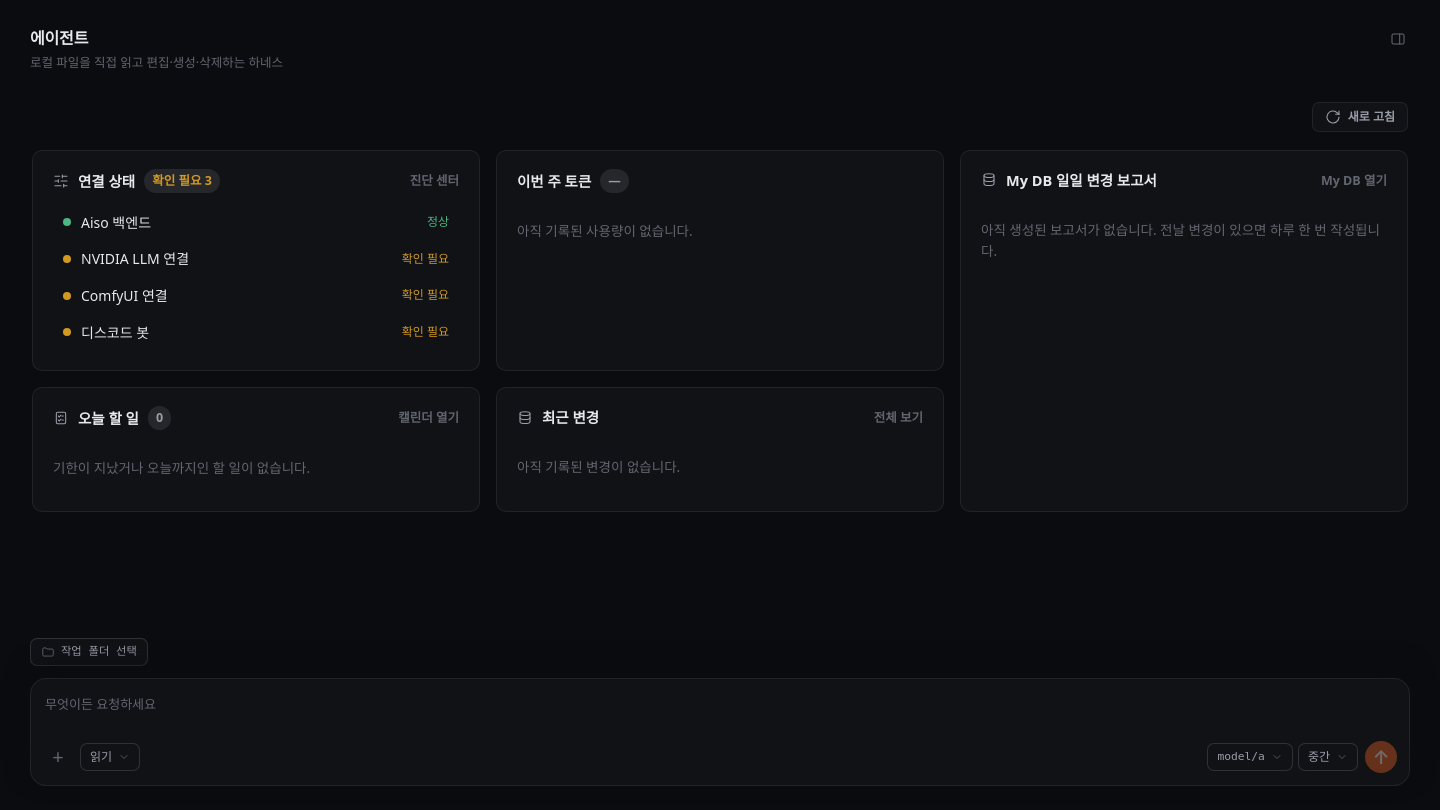
Test: AgentView NVIDIA capability gate › does not let a late approval acknowledgement overwrite an earlier tool result
Type "승인 경쟁 테스트" into the text box at (720, 712), box [43,691,1397,733]
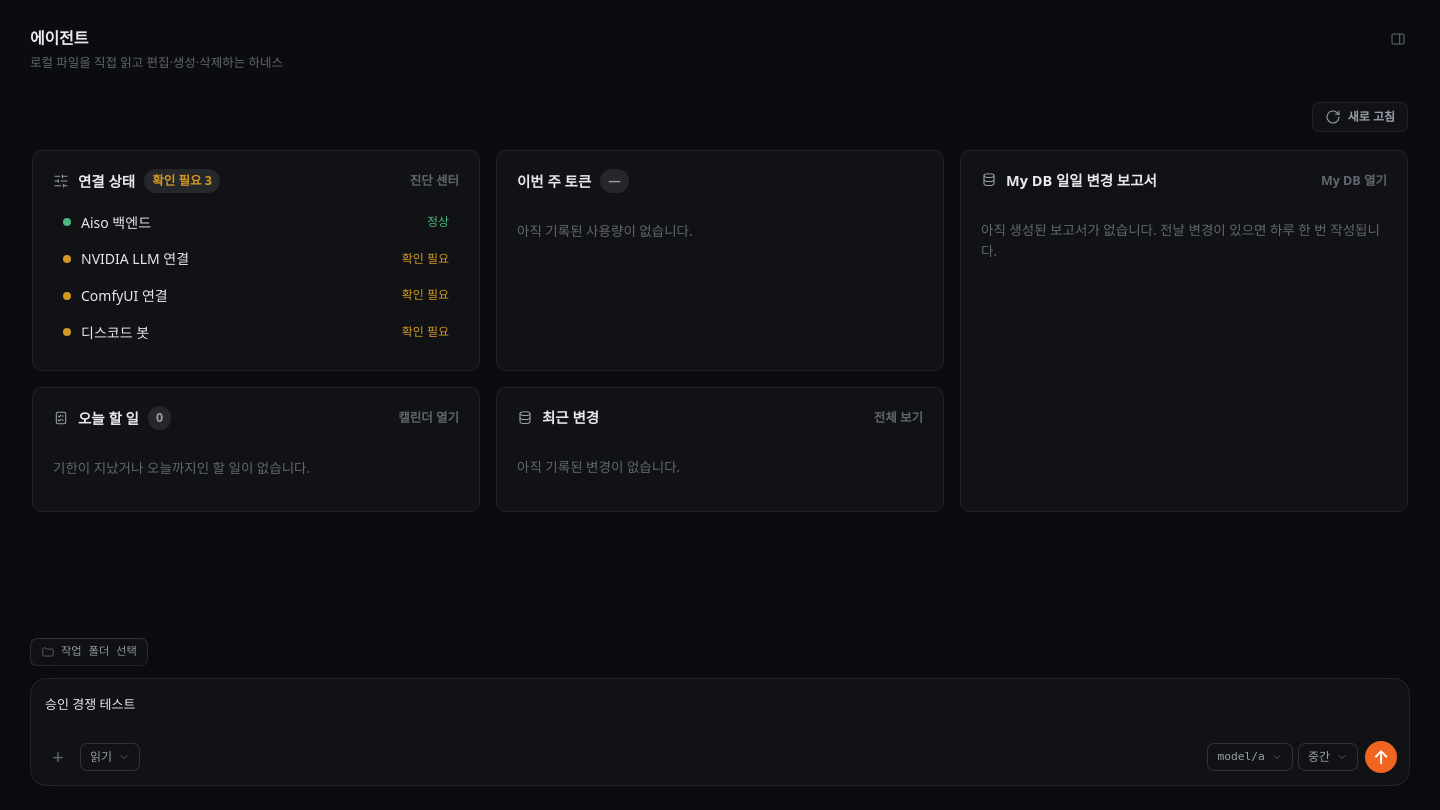
Click the button named "실행" at (1381, 757), box [1365,741,1397,773]
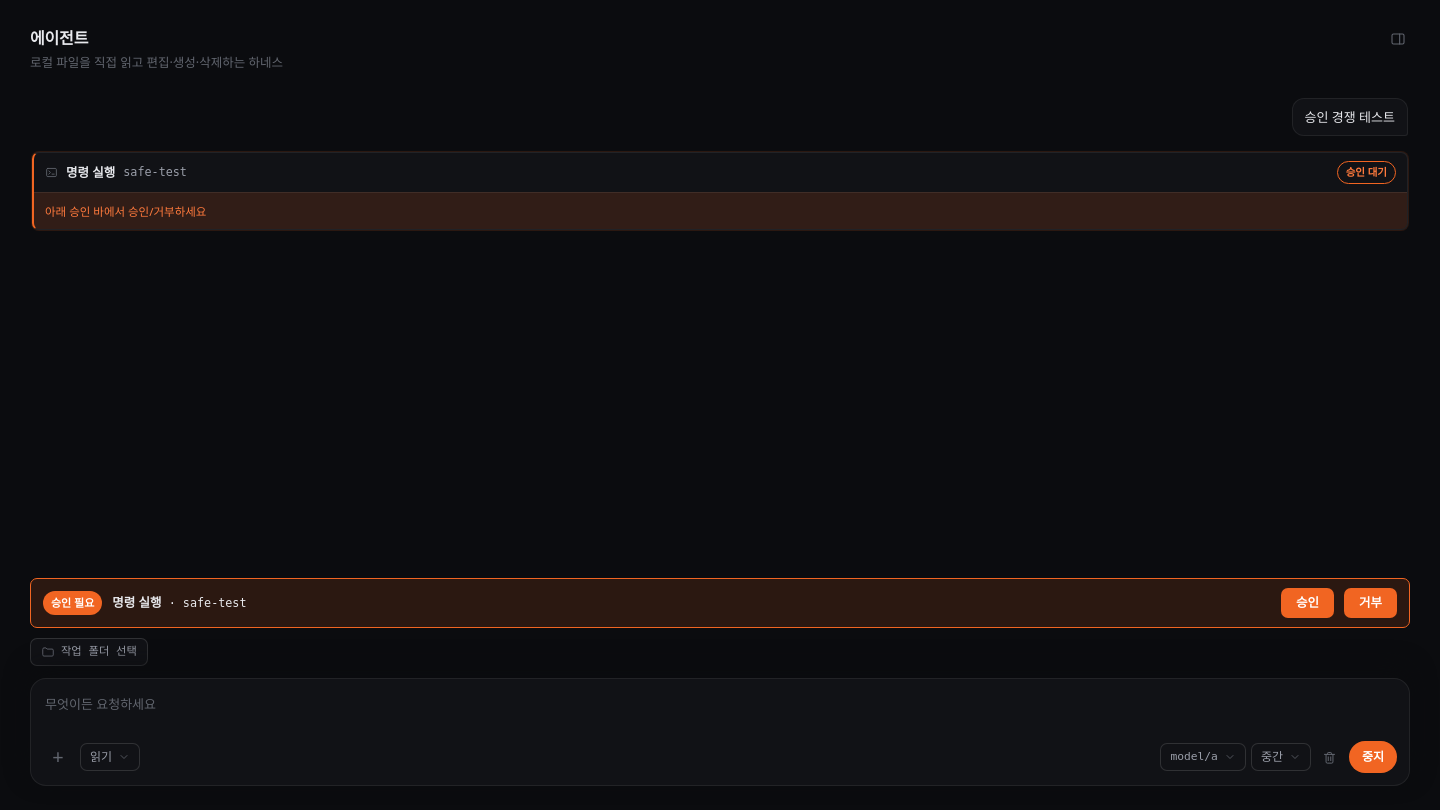
Click the button "승인" at (1308, 603), box [1281,588,1334,618]
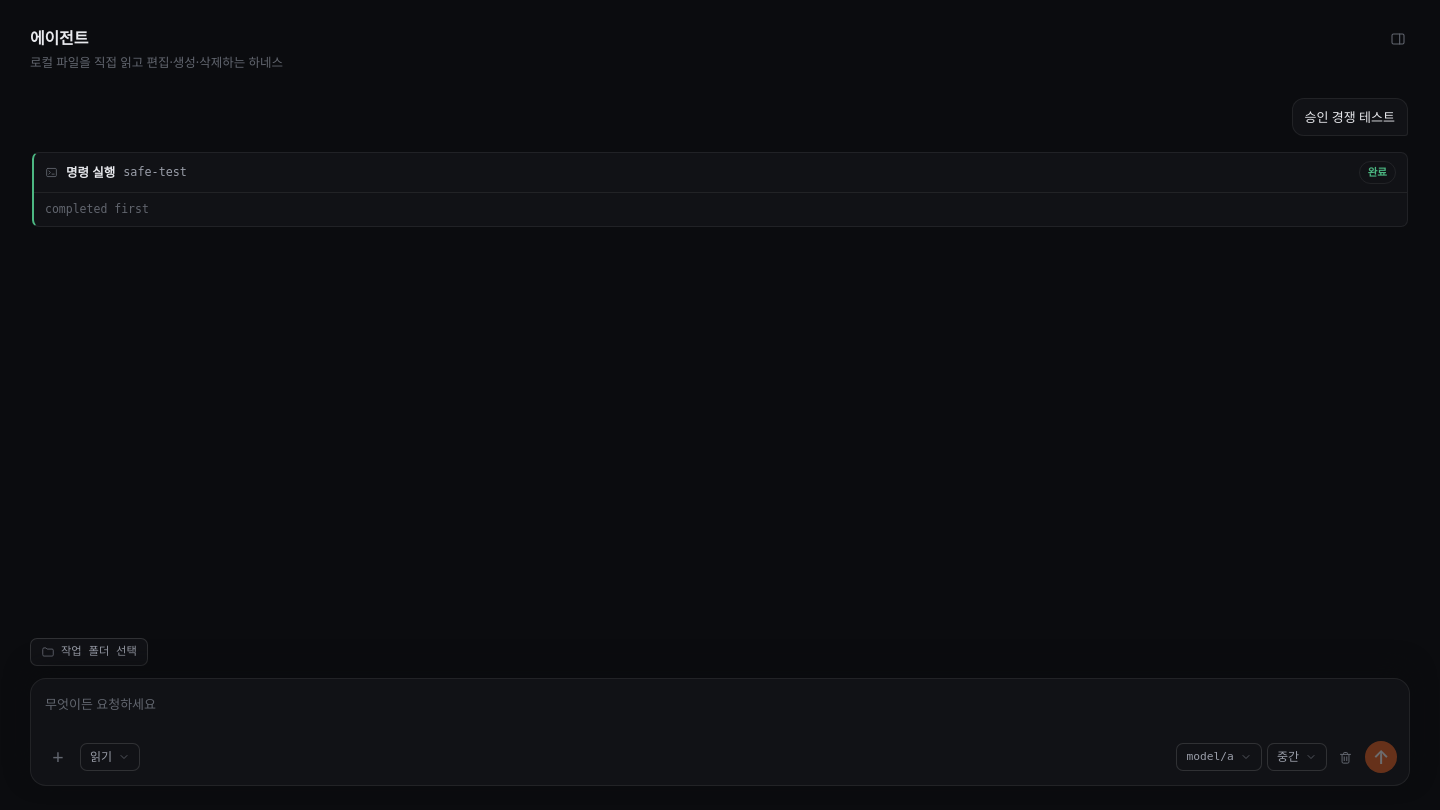
expect the text with class "tool__badge" reads "완료": met, box [1368,165,1387,179]
expect the text "승인 필요" is gone: met
